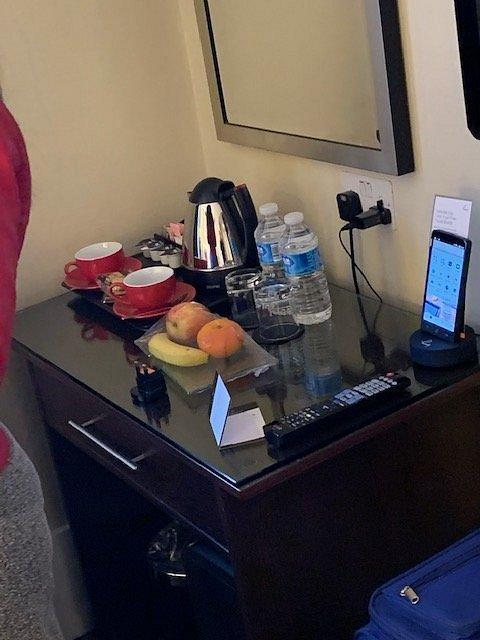organized table: (13, 174, 479, 511)
